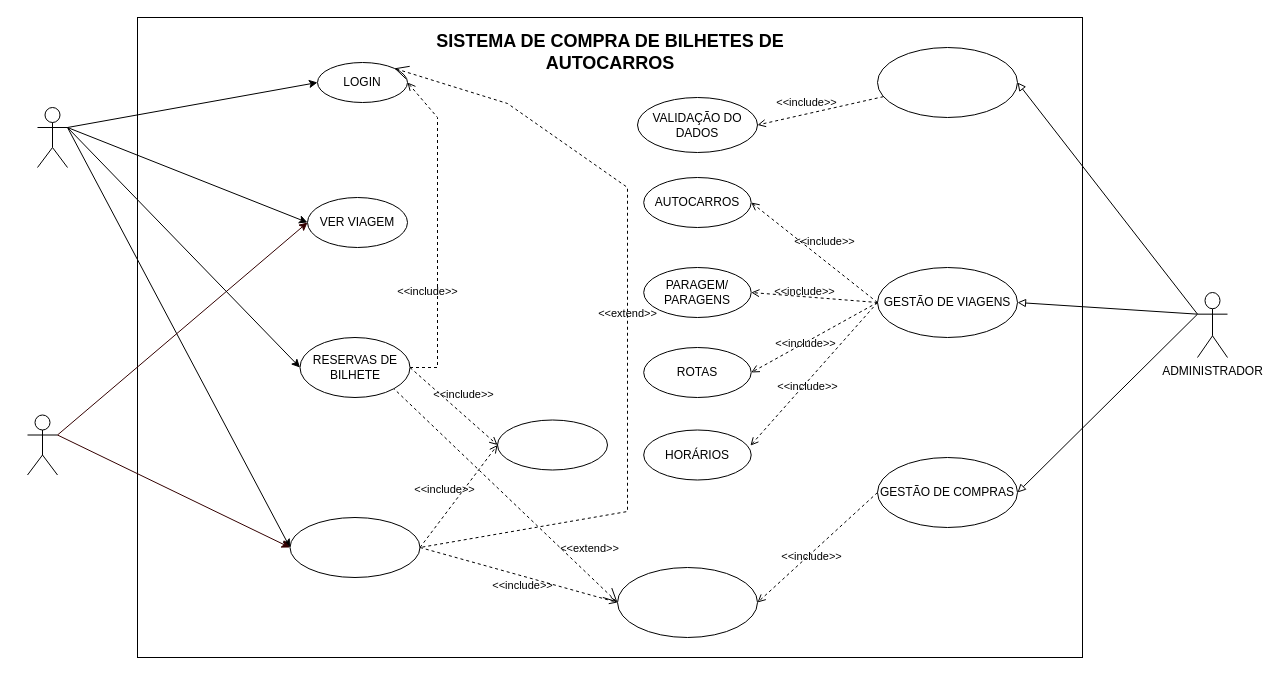
The diagram is 1280 pixels wide and 675 high, and some of its shapes have lost their labels. Here are the shapes that lost their labels. From the top down, the centre of each, then its label:
At point 947,82: "GESTOR DE UTILIZADOR".
At point 52,137: "UTILIZADOR".
At point 42,444: "PESSOA".
At point 552,444: "BILHETE".
At point 354,547: "COMPRAR BILHETE".
At point 687,602: "VALIDAÇÃO DE COMPRAS".
